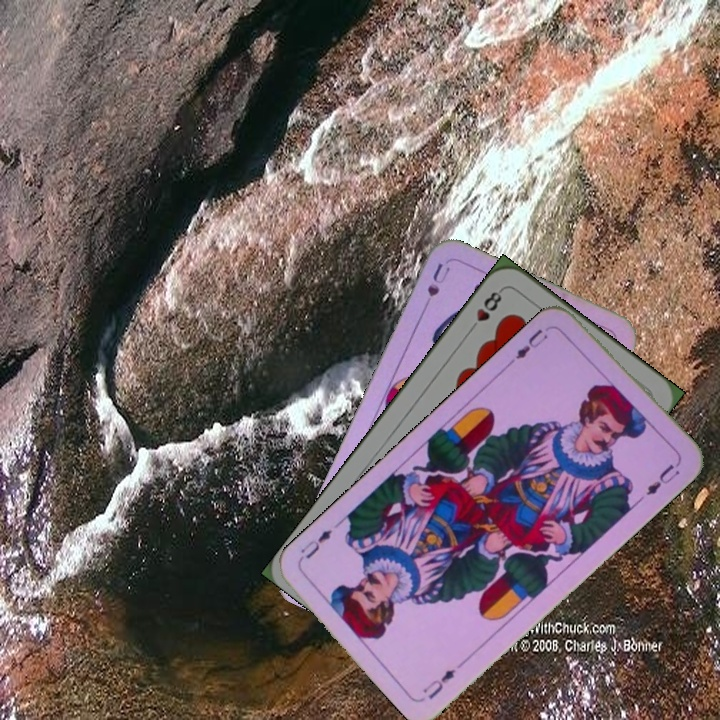EU: (506, 325, 551, 366), (418, 664, 458, 702)
H8: (465, 285, 506, 335)
SU: (423, 259, 453, 300)
